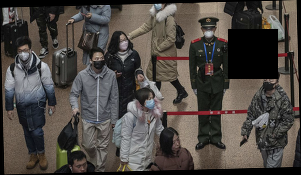with_mask: (141, 95, 156, 110), (263, 76, 277, 92), (16, 47, 32, 61), (92, 55, 106, 70), (202, 26, 215, 41), (117, 37, 130, 52)
without_mask: (170, 137, 182, 152), (74, 161, 88, 173)
